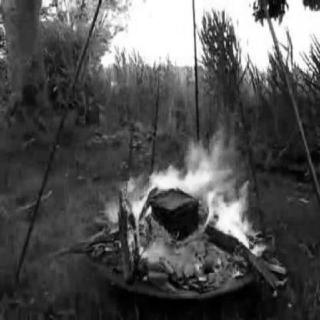Fire: (89, 92, 263, 288)
